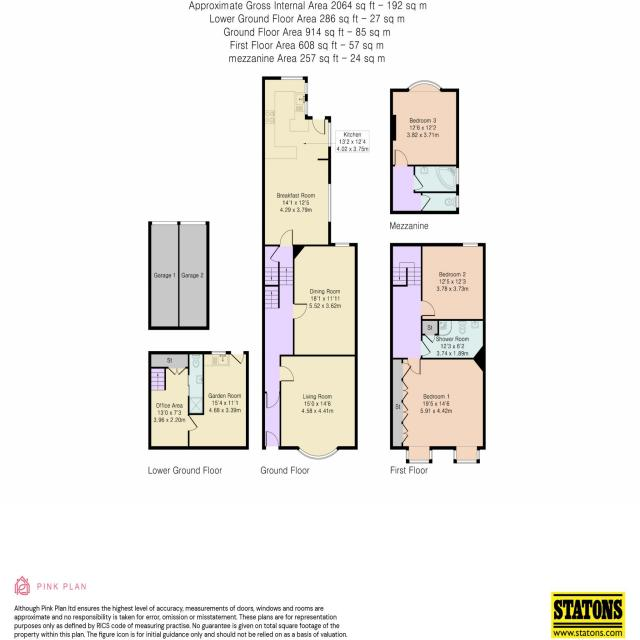DOOR: (293, 302, 308, 320), (265, 431, 279, 450), (421, 300, 436, 317), (266, 391, 280, 409), (279, 229, 293, 247), (312, 116, 325, 135), (279, 366, 294, 382), (407, 358, 421, 375), (394, 149, 408, 166), (414, 174, 424, 191), (421, 194, 431, 211), (421, 340, 431, 356)
ROOM: (262, 76, 331, 247), (390, 358, 486, 464), (279, 354, 358, 460), (293, 243, 358, 357), (390, 80, 459, 167), (421, 243, 486, 321)
WINDOW: (298, 447, 339, 460), (407, 80, 442, 91), (453, 450, 480, 464), (406, 450, 433, 464), (328, 183, 331, 222), (328, 122, 332, 147), (281, 76, 303, 80), (335, 242, 350, 247), (462, 243, 478, 247), (456, 167, 459, 185), (456, 195, 460, 208), (305, 101, 308, 115), (305, 82, 308, 95)
